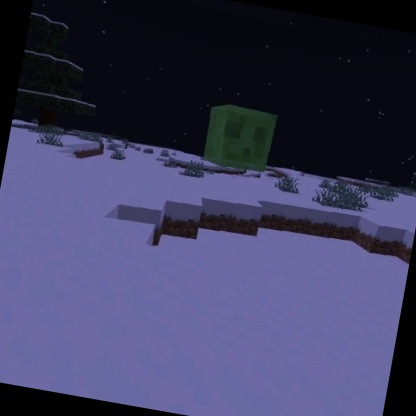slime: (198, 99, 278, 175)
